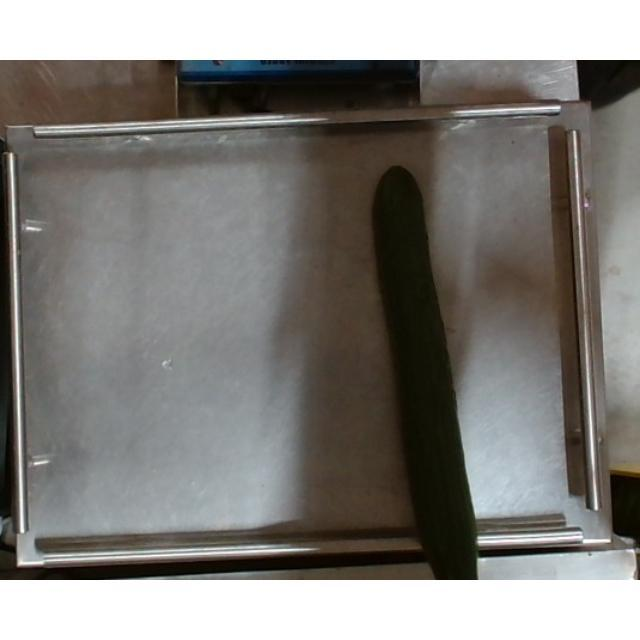cucumber: (368, 164, 478, 580)
